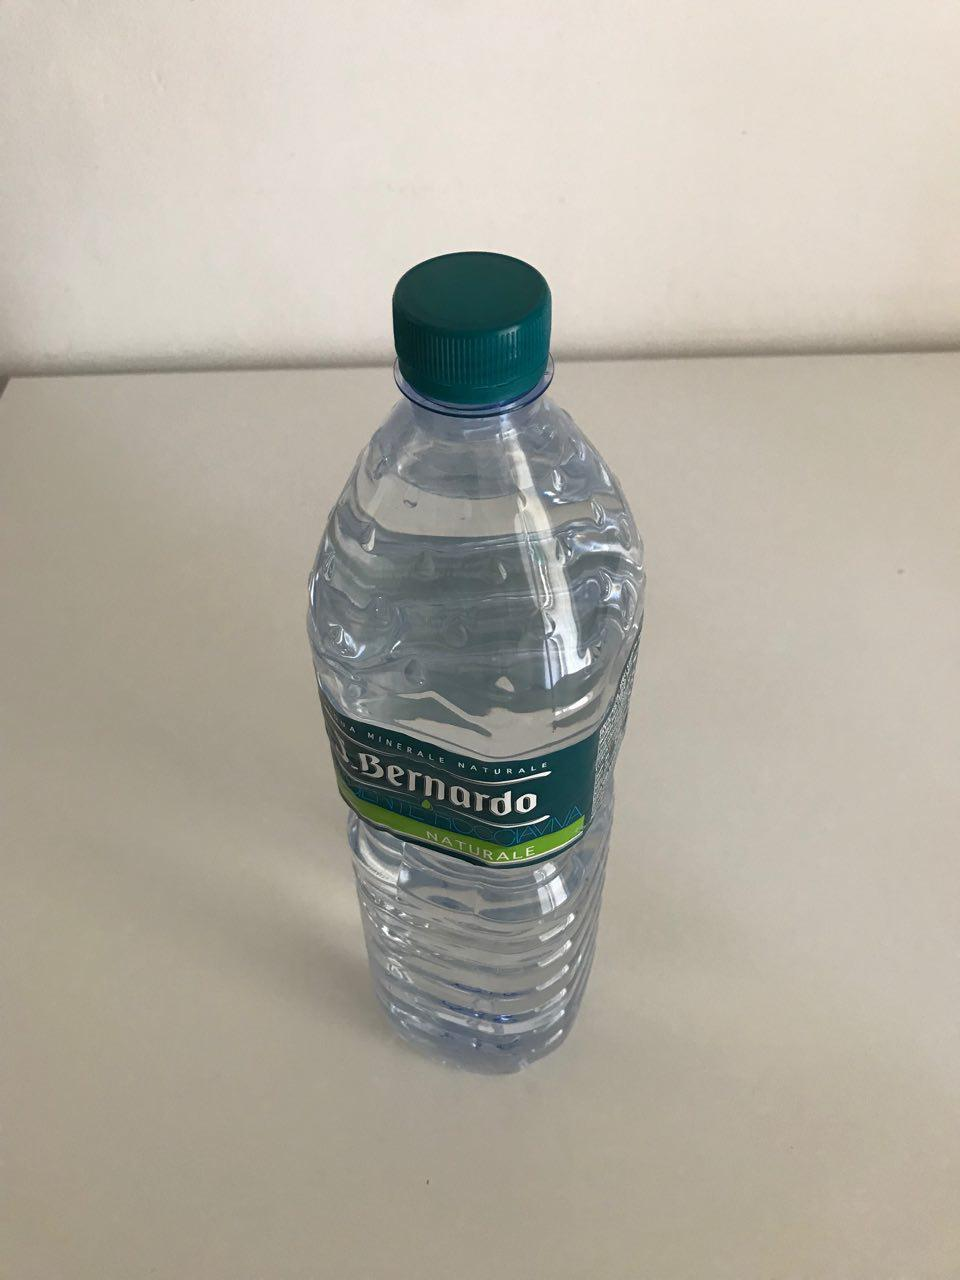san_bernardo: (303, 250, 648, 1079)
